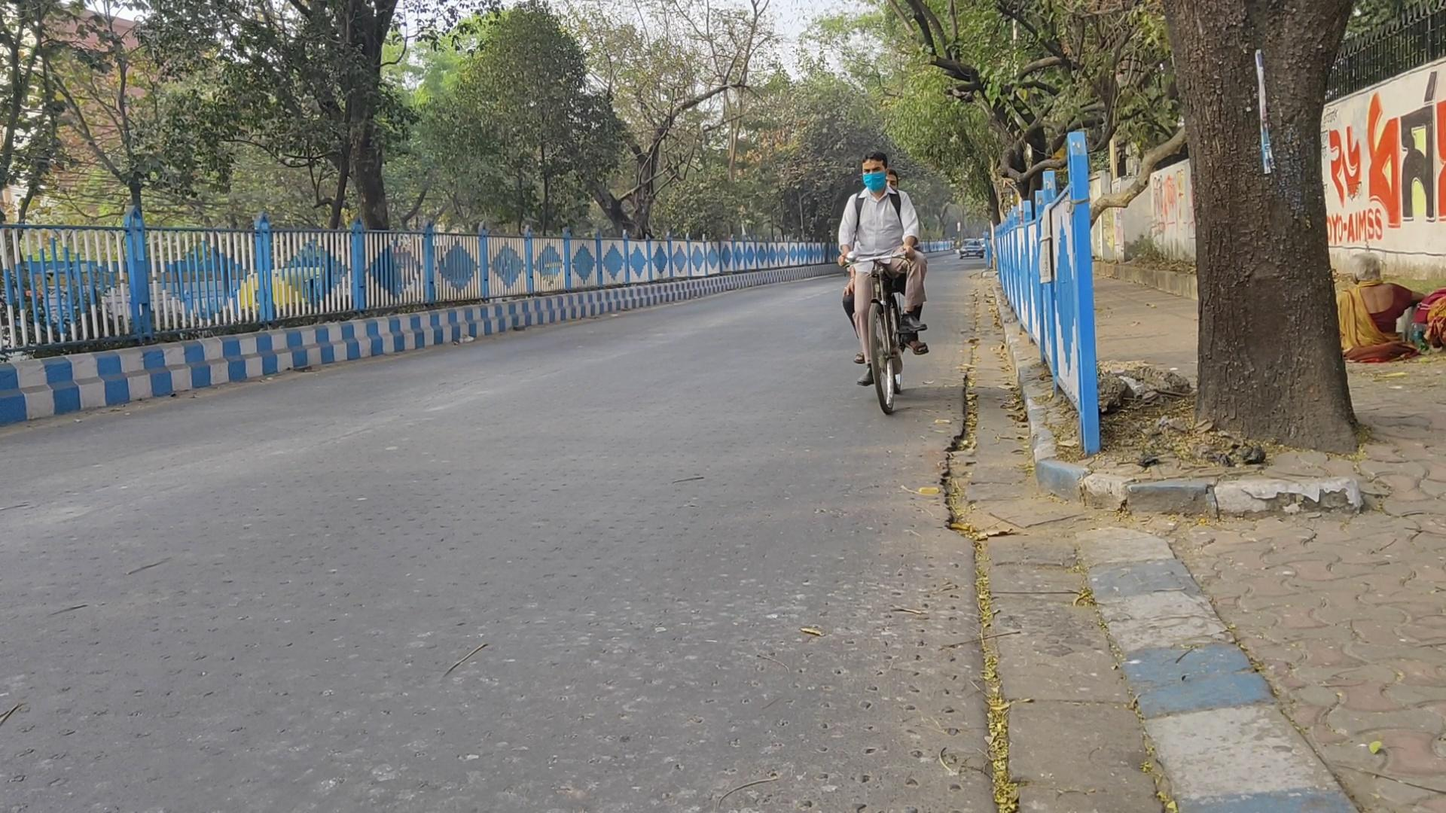bike: (837, 157, 924, 413)
car: (959, 237, 984, 260)
